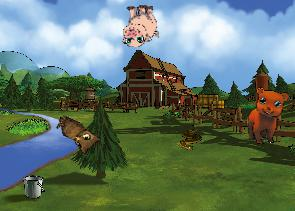bear: (247, 87, 289, 145)
owl: (49, 114, 103, 158)
pig: (119, 3, 159, 47)
